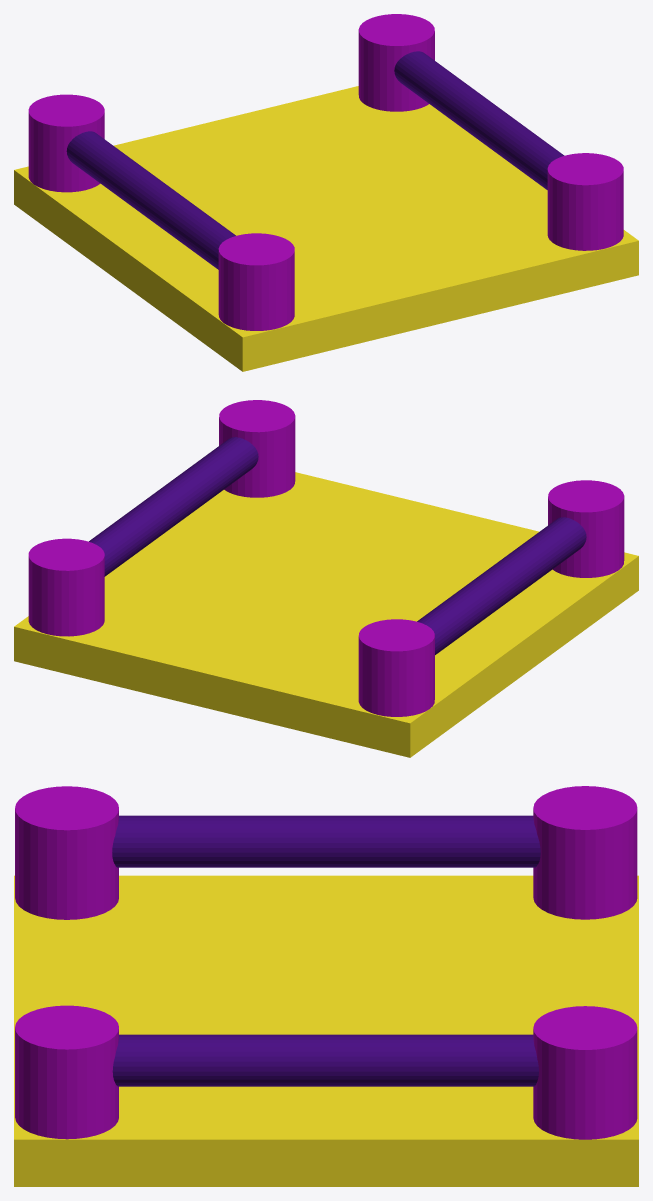
Rendered from BaseCheckpoint.fbx.
3 views of the same model, one above another, from view 1: azimuth 30°, elevation 25°; view 2: azimuth 150°, elevation 25°; view 3: azimuth 270°, elevation 25° (orthographic). The views are drawn at different scales.
Parts seen in each view (by area): view 1: Base Checkpoint; view 2: Base Checkpoint; view 3: Base Checkpoint.
Boxes of the visible parts, bbox=[...] form: Base Checkpoint: bbox=[14, 14, 638, 371]; Base Checkpoint: bbox=[14, 400, 638, 757]; Base Checkpoint: bbox=[14, 786, 638, 1186].
Size of the model in its own units: 600 by 145 by 600.
Materials: 1 (1 with a texture image).
